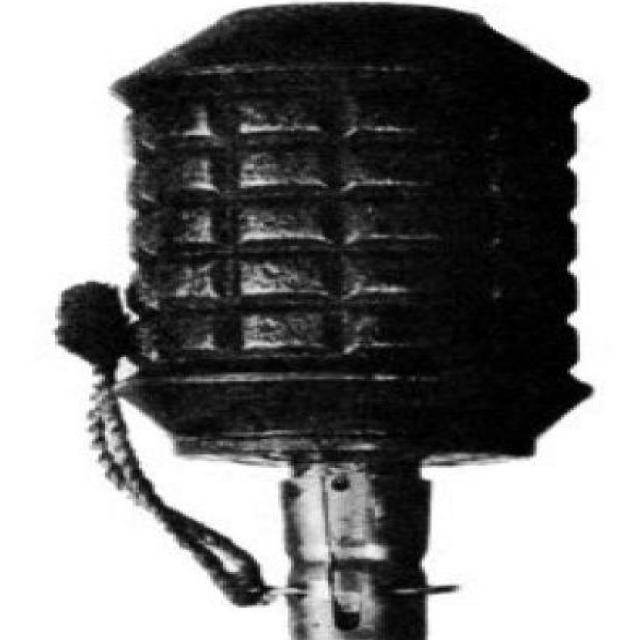grenade: (59, 2, 599, 640)
